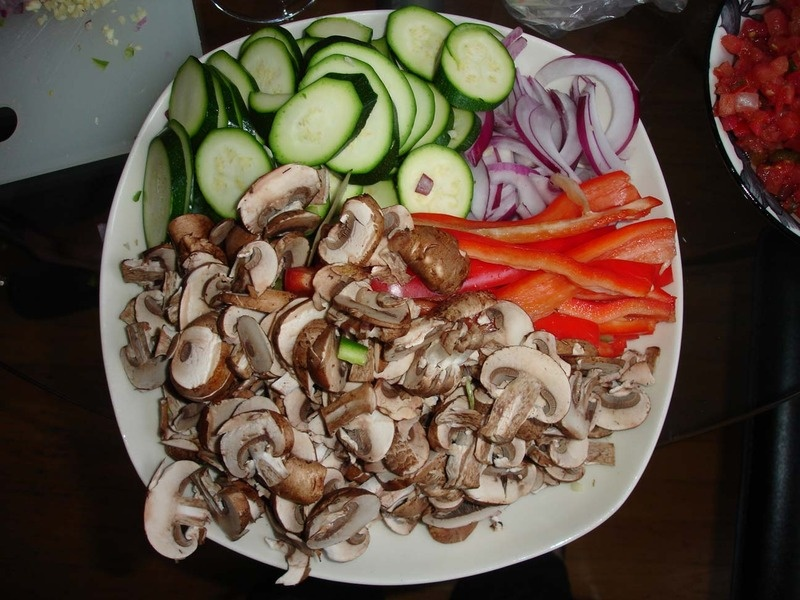background: (148, 3, 800, 549)
